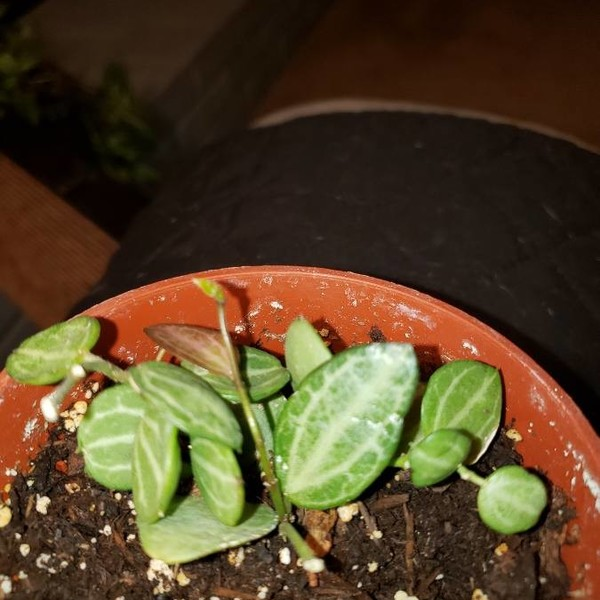obstacle: (50, 229, 568, 587)
